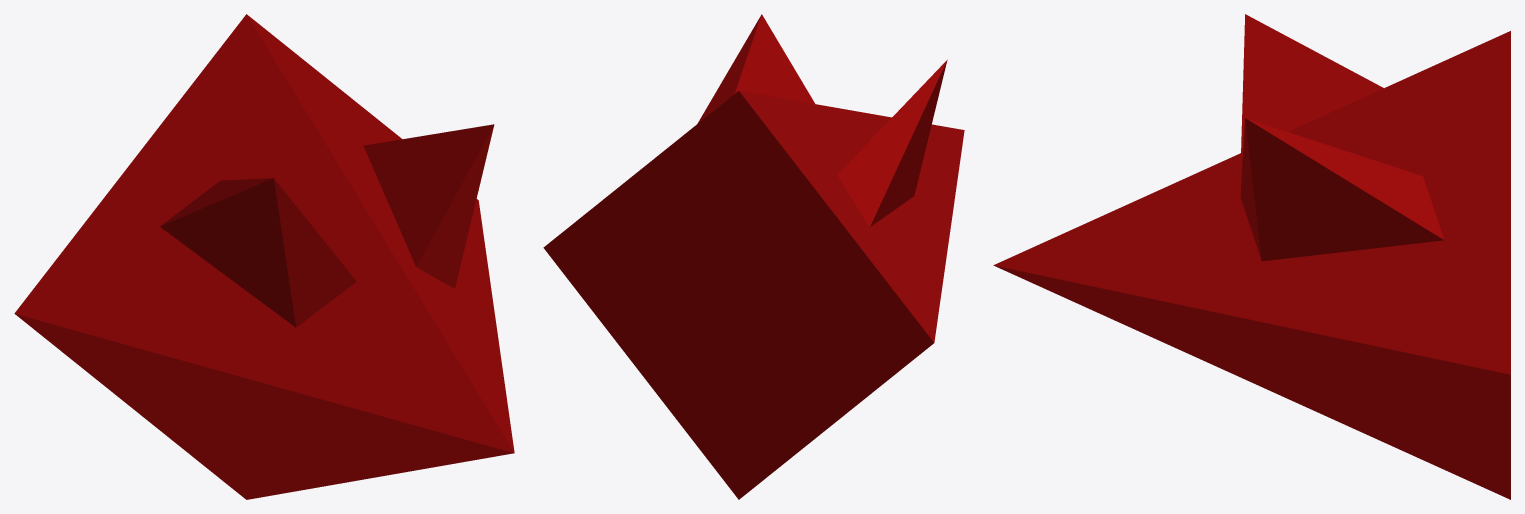
File: Oni.obj
3 views of the same model, side by side, from view 1: azimuth 30°, elevation 25°; view 2: azimuth 150°, elevation 25°; view 3: azimuth 270°, elevation 25° (orthographic). The views are drawn at different scales.
Visible parts, largest first — view 1: Oni; view 2: Oni; view 3: Oni.
Part boxes in pixels (box(x1,y1,x2,y2)): Oni: box(14, 14, 514, 499); Oni: box(543, 14, 964, 499); Oni: box(993, 14, 1510, 499).
Size of the model in its own units: 2 by 2 by 2.
